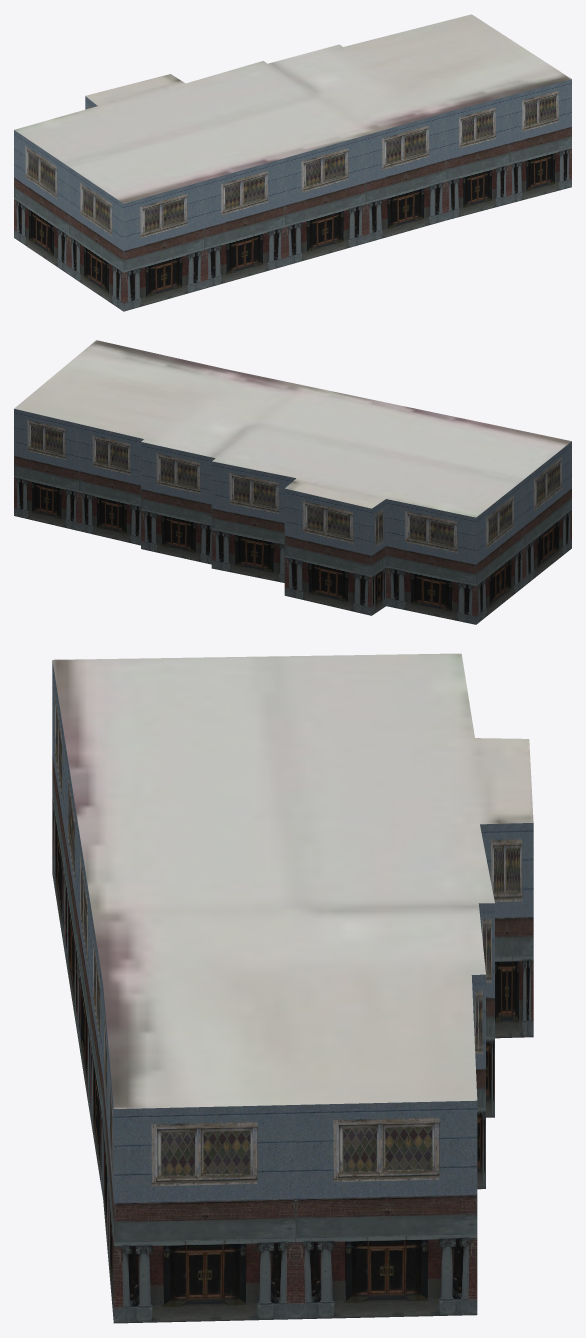
The model's file is T_1SVQQ4NXKW.dae.
3 renders of one model, top to bottom at view 1: azimuth 30°, elevation 25°; view 2: azimuth 150°, elevation 25°; view 3: azimuth 270°, elevation 25°, orthographic. The views are drawn at different scales.
Parts seen in each view (by area): view 1: SketchUp (×7); view 2: SketchUp (×15); view 3: SketchUp (×13).
Part boxes in pixels (x1=…): SketchUp (×7): x1=14, y1=14, x2=571, y2=311; SketchUp (×15): x1=14, y1=340, x2=571, y2=624; SketchUp (×13): x1=52, y1=653, x2=533, y2=1323.
Bounding box in the file's own units: 26.89 × 12 × 5.9.
3 materials, 3 textured.
